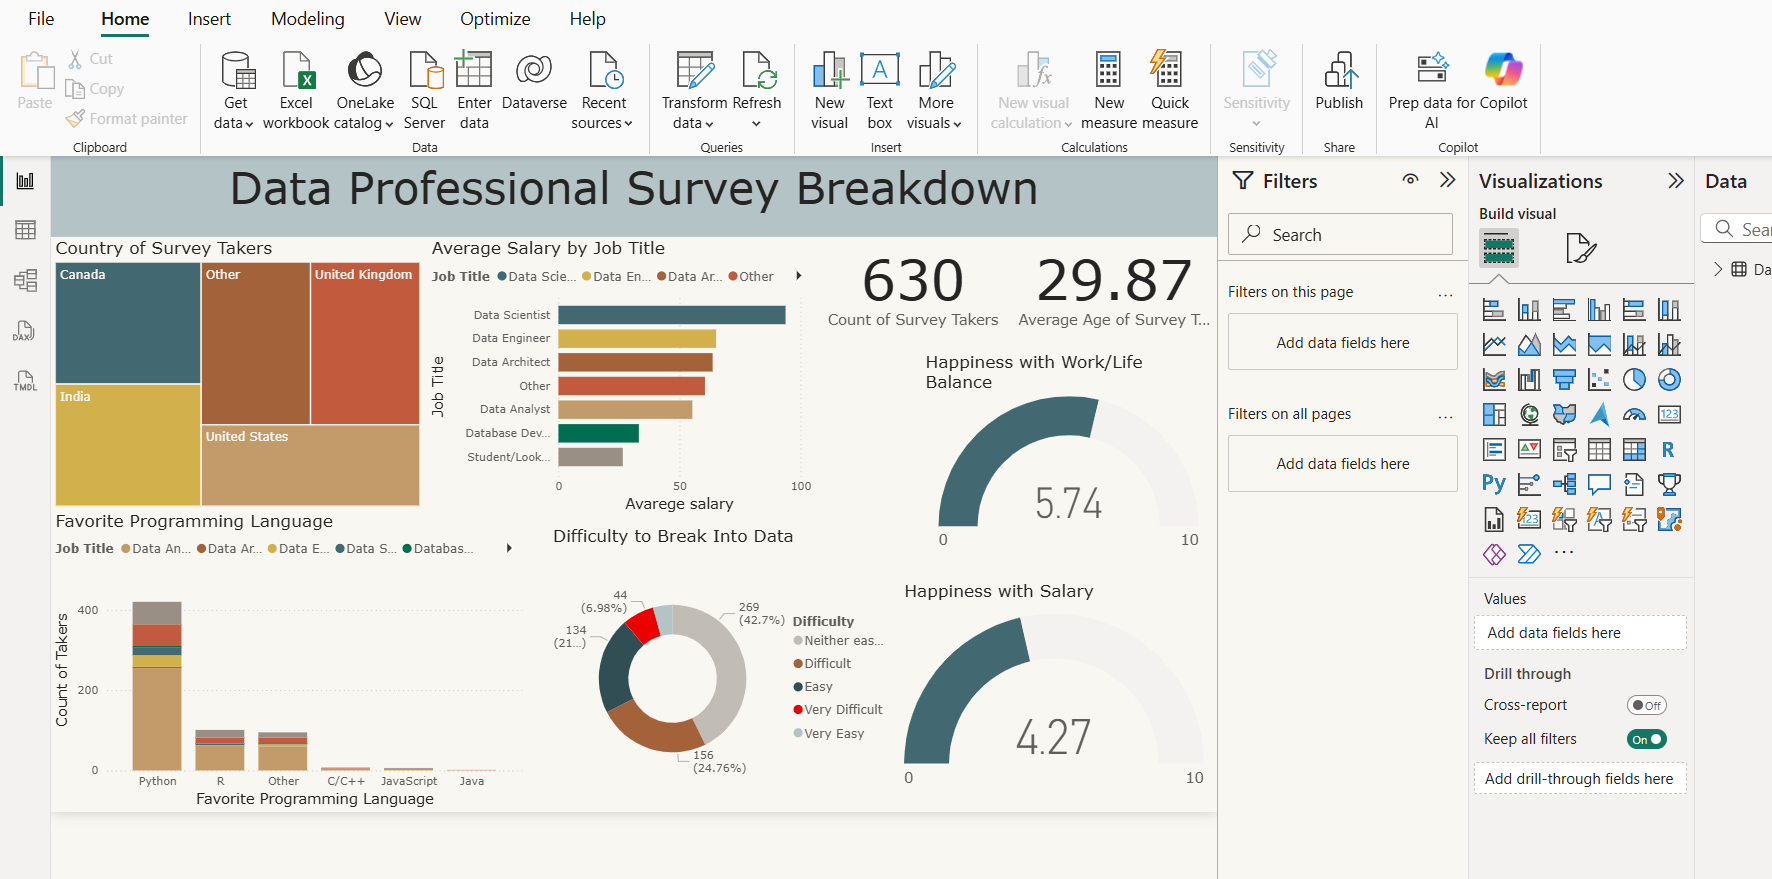

Layout of this report page (visuals, bound fields, positions):
{"tool":"powerbi","page":{"name":"Page 1","canvas":[1280,720],"ordinal":0},"visuals":[{"type":"textbox","box":[0,0,1280.3,88.9],"z":0},{"type":"card","fields":{"Values":["Count(Data Professional Survey.Unique ID)"]},"box":[839.7,89.3,213.5,105],"z":1000},{"type":"card","fields":{"Values":["Avg(Data Professional Survey.Q10 - Current Age)"]},"box":[1053.2,89.3,226.8,105],"z":2000},{"type":"barChart","title":"Average Salary by Job Title","fields":{"Category":["Data Professional Survey.Q1 - Which Title Best Fits your Current Role?.1"],"Y":["Avg(Data Professional Survey.Avarege salary)"],"Series":["Data Professional Survey.Q1 - Which Title Best Fits your Current Role?.1"]},"box":[412.6,89.3,427.1,306.4],"z":3000},{"type":"columnChart","title":" Favorite Programming Language","fields":{"Category":["Data Professional Survey.Q5 - Favorite Programming Language.1"],"Y":["CountNonNull(Data Professional Survey.Unique ID)"],"Series":["Data Professional Survey.Q1 - Which Title Best Fits your Current Role?.1"]},"box":[0,388.9,522.7,331.4],"z":4000},{"type":"gauge","title":"Happiness with Work/Life Balance","fields":{"Y":["Avg(Data Professional Survey.Q6 - How Happy are you in your Current Position with the following? (Work/Life Balance))"],"MinValue":["Min(Data Professional Survey.Q6 - How Happy are you in your Current Position with the following? (Work/Life Balance))"],"MaxValue":["Max(Data Professional Survey.Q6 - How Happy are you in your Current Position with the following? (Work/Life Balance))1"]},"box":[955.5,214.7,324.5,226.8],"z":5000},{"type":"gauge","title":"Happiness with Salary","fields":{"Y":["Avg(Data Professional Survey.Q6 - How Happy are you in your Current Position with the following? (Salary))"],"MinValue":["Min(Data Professional Survey.Q6 - How Happy are you in your Current Position with the following? (Salary))"],"MaxValue":["Max(Data Professional Survey.Q6 - How Happy are you in your Current Position with the following? (Salary))"]},"box":[931.4,465.7,339,246.1],"z":6000},{"type":"treemap","title":"Country of Survey Takers","fields":{"Group":["Data Professional Survey.Q11 - Which Country do you live in?.1"],"Values":["Count(Data Professional Survey.Q11 - Which Country do you live in?.1)"]},"box":[0,89.3,410.2,300.4],"z":7000},{"type":"donutChart","title":"Difficulty to Break Into Data","fields":{"Category":["Data Professional Survey.Q7 - How difficult was it for you to break into Data?"],"Y":["CountNonNull(Data Professional Survey.Q7 - How difficult was it for you to break into Data?)"]},"box":[546,404.5,385.8,315.8],"z":8000}]}

Visuals, with their boxes on the page's 1280x720 design canvas (x1, y1, x2, y2). These are canvas units, not pixel positions in the 1772x879 screenshot, which may show the page scaled, cropped or inside an application window:
textbox: 0 0 1280 89
card - Count(Data Professional Survey.Unique ID): 840 89 1053 194
card - Avg(Data Professional Survey.Q10 - Current Age): 1053 89 1280 194
"Average Salary by Job Title" barChart: 413 89 840 396
" Favorite Programming Language" columnChart: 0 389 523 720
"Happiness with Work/Life Balance" gauge: 956 215 1280 442
"Happiness with Salary" gauge: 931 466 1270 712
"Country of Survey Takers" treemap: 0 89 410 390
"Difficulty to Break Into Data" donutChart: 546 404 932 720
